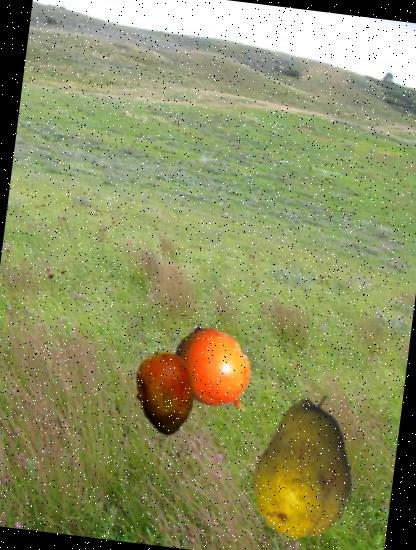Granadilla: (158, 317, 276, 435)
Papaya: (116, 346, 213, 442)
Pear: (221, 384, 386, 550)
